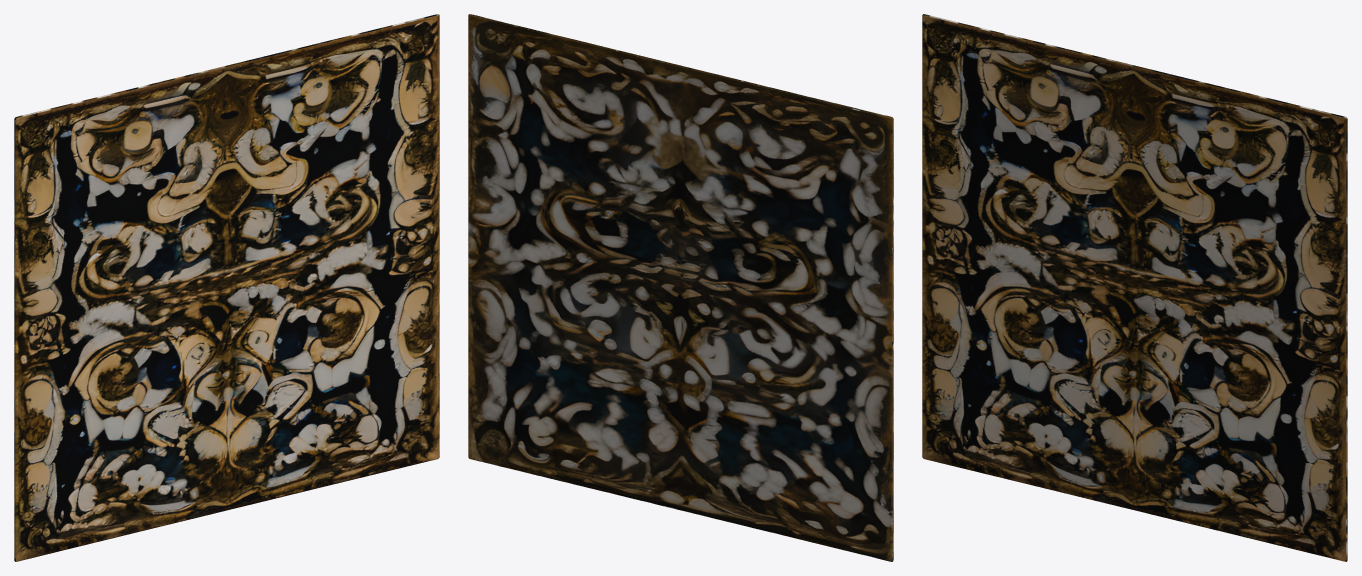
The picture shows the model from 3 angles, left to right: view 1: azimuth 30°, elevation 25°; view 2: azimuth 150°, elevation 25°; view 3: azimuth 330°, elevation 25°; orthographic projection.
Parts seen in each view (by area): view 1: textured_mesh; view 2: textured_mesh; view 3: textured_mesh.
Part boxes in pixels (<box>): textured_mesh: <box>14,14,439,561</box>; textured_mesh: <box>468,14,893,561</box>; textured_mesh: <box>922,14,1347,561</box>.
Bounding box in the file's own units: 1.99 × 1.99 × 0.0129.
Materials: 1 (1 with a texture image).
